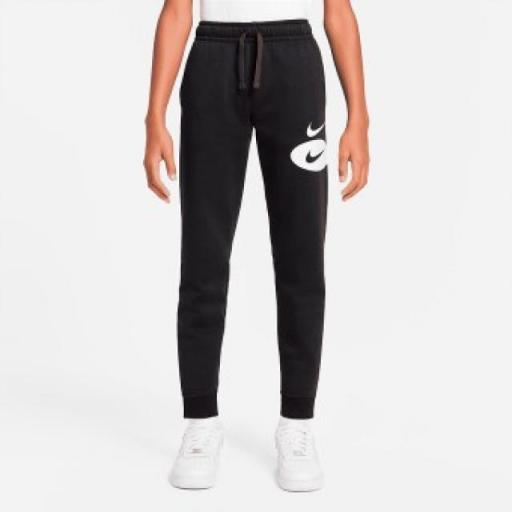Nike: (300, 148, 325, 164)
